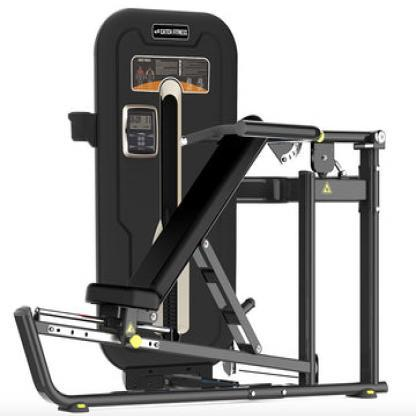shoulder press machine: (8, 0, 413, 416)
